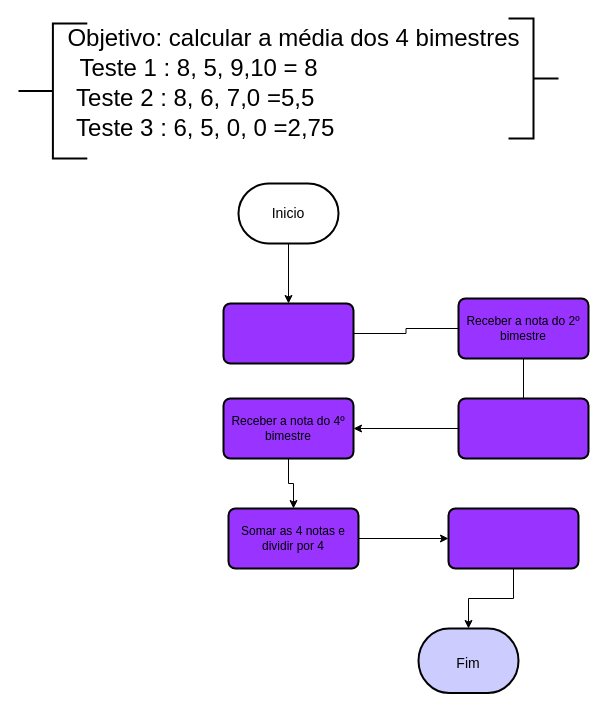
Some shapes in this 606 by 711 pixel diagram are drawn without their labels. Here are the shapes that lost their labels. From the top down, the centre of each, then its label:
[288,333]: Receber a nota do 1º bimestre
[523,428]: Receber a nota do 3º bimestre
[513,538]: Exibir a média no boletim
